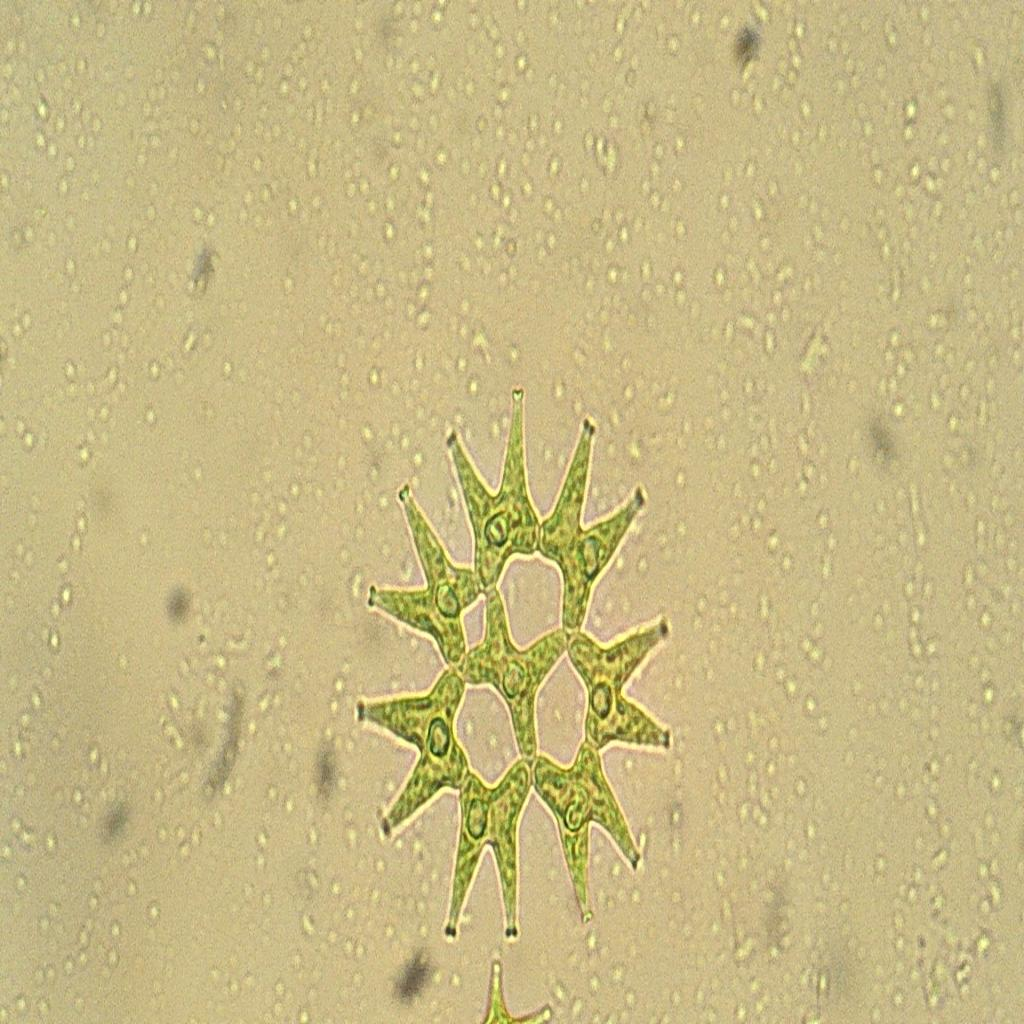Pediastrum_CTH: (345, 372, 690, 956)
